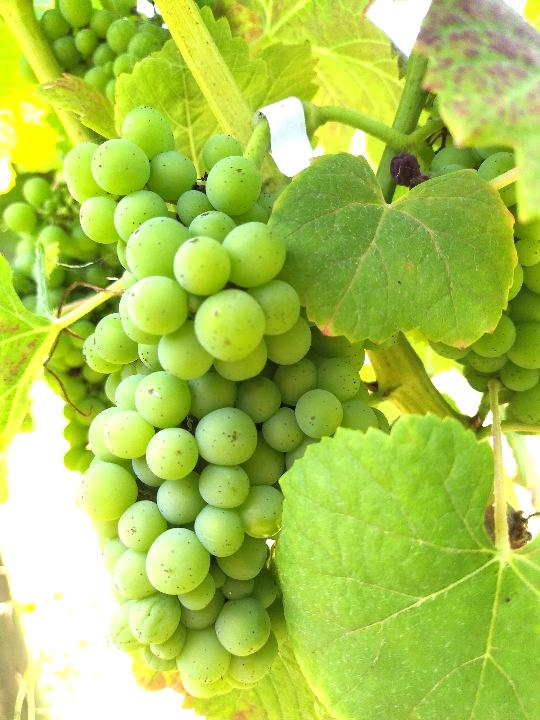grape: (63, 103, 390, 704)
